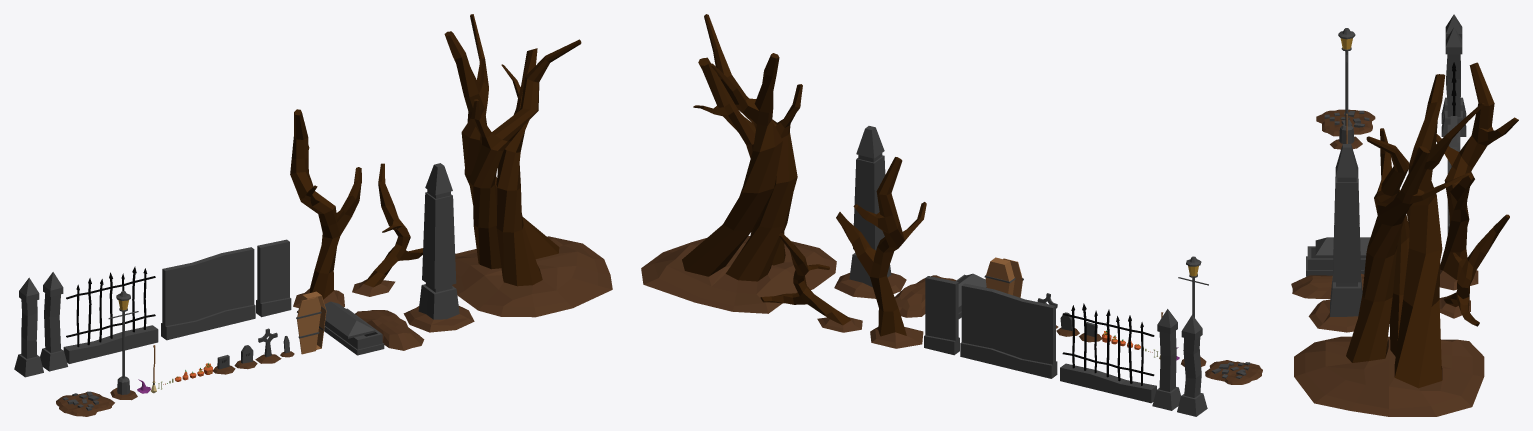
File: Lowpoly Halloween Pack.fbx
3 views of the same model, side by side, from view 1: azimuth 30°, elevation 25°; view 2: azimuth 150°, elevation 25°; view 3: azimuth 270°, elevation 25° (orthographic). The views are drawn at different scales.
Parts seen in each view (by area): view 1: Graveyard tree 3, Fence 2, Monument, Graveyard Tree 1, Fence, Fence 3, Graveyard Tree 2, Fence Post 2, Fence Post 1, Grave, Coffin Lid, Path (+3 smaller); view 2: Graveyard tree 3, Fence 2, Graveyard Tree 1, Monument, Fence, Fence 3, Graveyard Tree 2, Fence Post 2, Fence Post 1, Path, Grave, Coffin; view 3: Graveyard tree 3, Monument, Graveyard Tree 1, Graveyard Tree 2, Fence Post 1, Path, Light Post, Grave, Tomb, Tomb Lid, Fence Post 2, Fence (+1 smaller).
Boxes of the visible parts, <box> form: Graveyard tree 3: <box>444,14,612,317</box>; Fence 2: <box>161,247,255,340</box>; Monument: <box>403,163,474,332</box>; Graveyard Tree 1: <box>290,109,361,307</box>; Fence: <box>63,266,158,363</box>; Fence 3: <box>256,239,291,317</box>; Graveyard Tree 2: <box>352,163,423,296</box>; Fence Post 2: <box>14,277,43,377</box>; Fence Post 1: <box>40,272,67,371</box>; Grave: <box>355,310,424,350</box>; Coffin Lid: <box>296,297,321,354</box>; Path: <box>56,391,114,416</box>; Graveyard tree 3: <box>641,14,836,313</box>; Fence 2: <box>960,283,1057,378</box>; Graveyard Tree 1: <box>836,157,926,348</box>; Monument: <box>834,126,906,298</box>; Fence: <box>1060,303,1156,403</box>; Fence 3: <box>924,276,959,355</box>; Graveyard Tree 2: <box>760,233,862,332</box>; Fence Post 2: <box>1177,315,1207,416</box>; Fence Post 1: <box>1152,309,1180,410</box>; Path: <box>1205,360,1262,384</box>; Grave: <box>894,275,956,317</box>; Coffin: <box>984,257,1015,295</box>; Graveyard tree 3: <box>1294,74,1484,416</box>; Monument: <box>1308,144,1362,332</box>; Graveyard Tree 1: <box>1436,62,1518,290</box>; Graveyard Tree 2: <box>1439,214,1509,326</box>; Fence Post 1: <box>1441,27,1466,136</box>; Path: <box>1316,109,1375,136</box>; Light Post: <box>1330,28,1362,149</box>; Grave: <box>1291,273,1364,298</box>; Tomb: <box>1306,246,1365,276</box>; Tomb Lid: <box>1315,237,1370,257</box>; Fence Post 2: <box>1441,14,1466,123</box>; Fence: <box>1447,62,1460,173</box>.
Bounding box in the file's own units: 1147 × 482 × 360.
